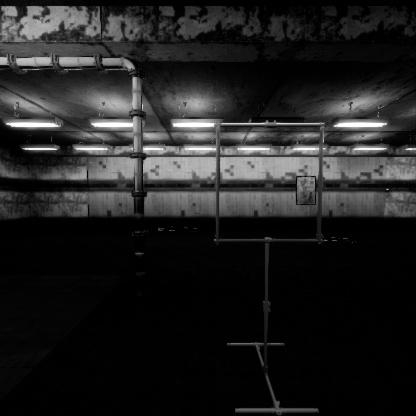gate: (215, 171, 333, 293)
